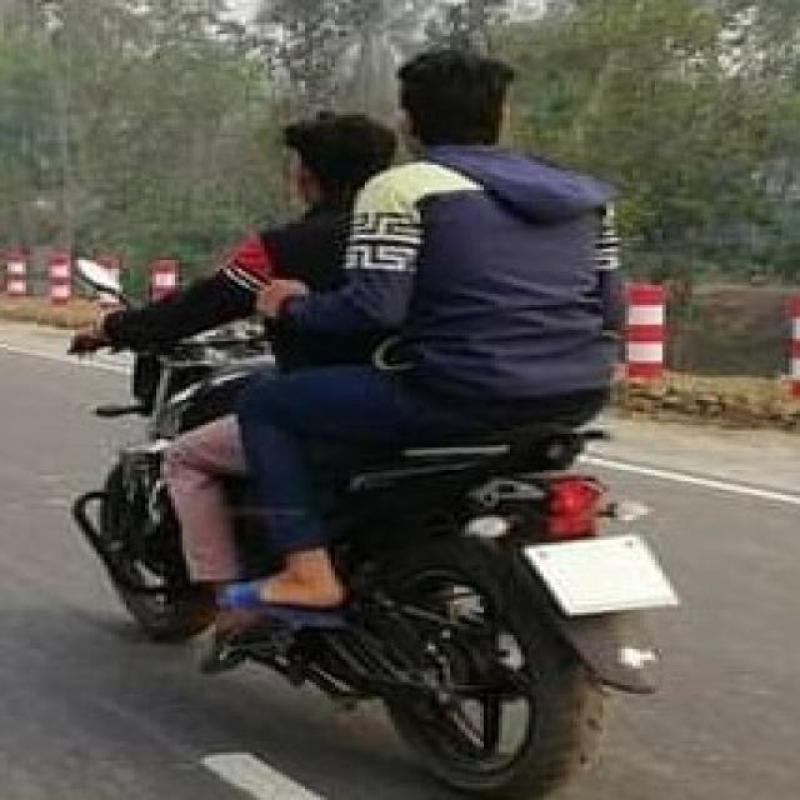nohelmet: (399, 34, 540, 157), (242, 100, 383, 206)
